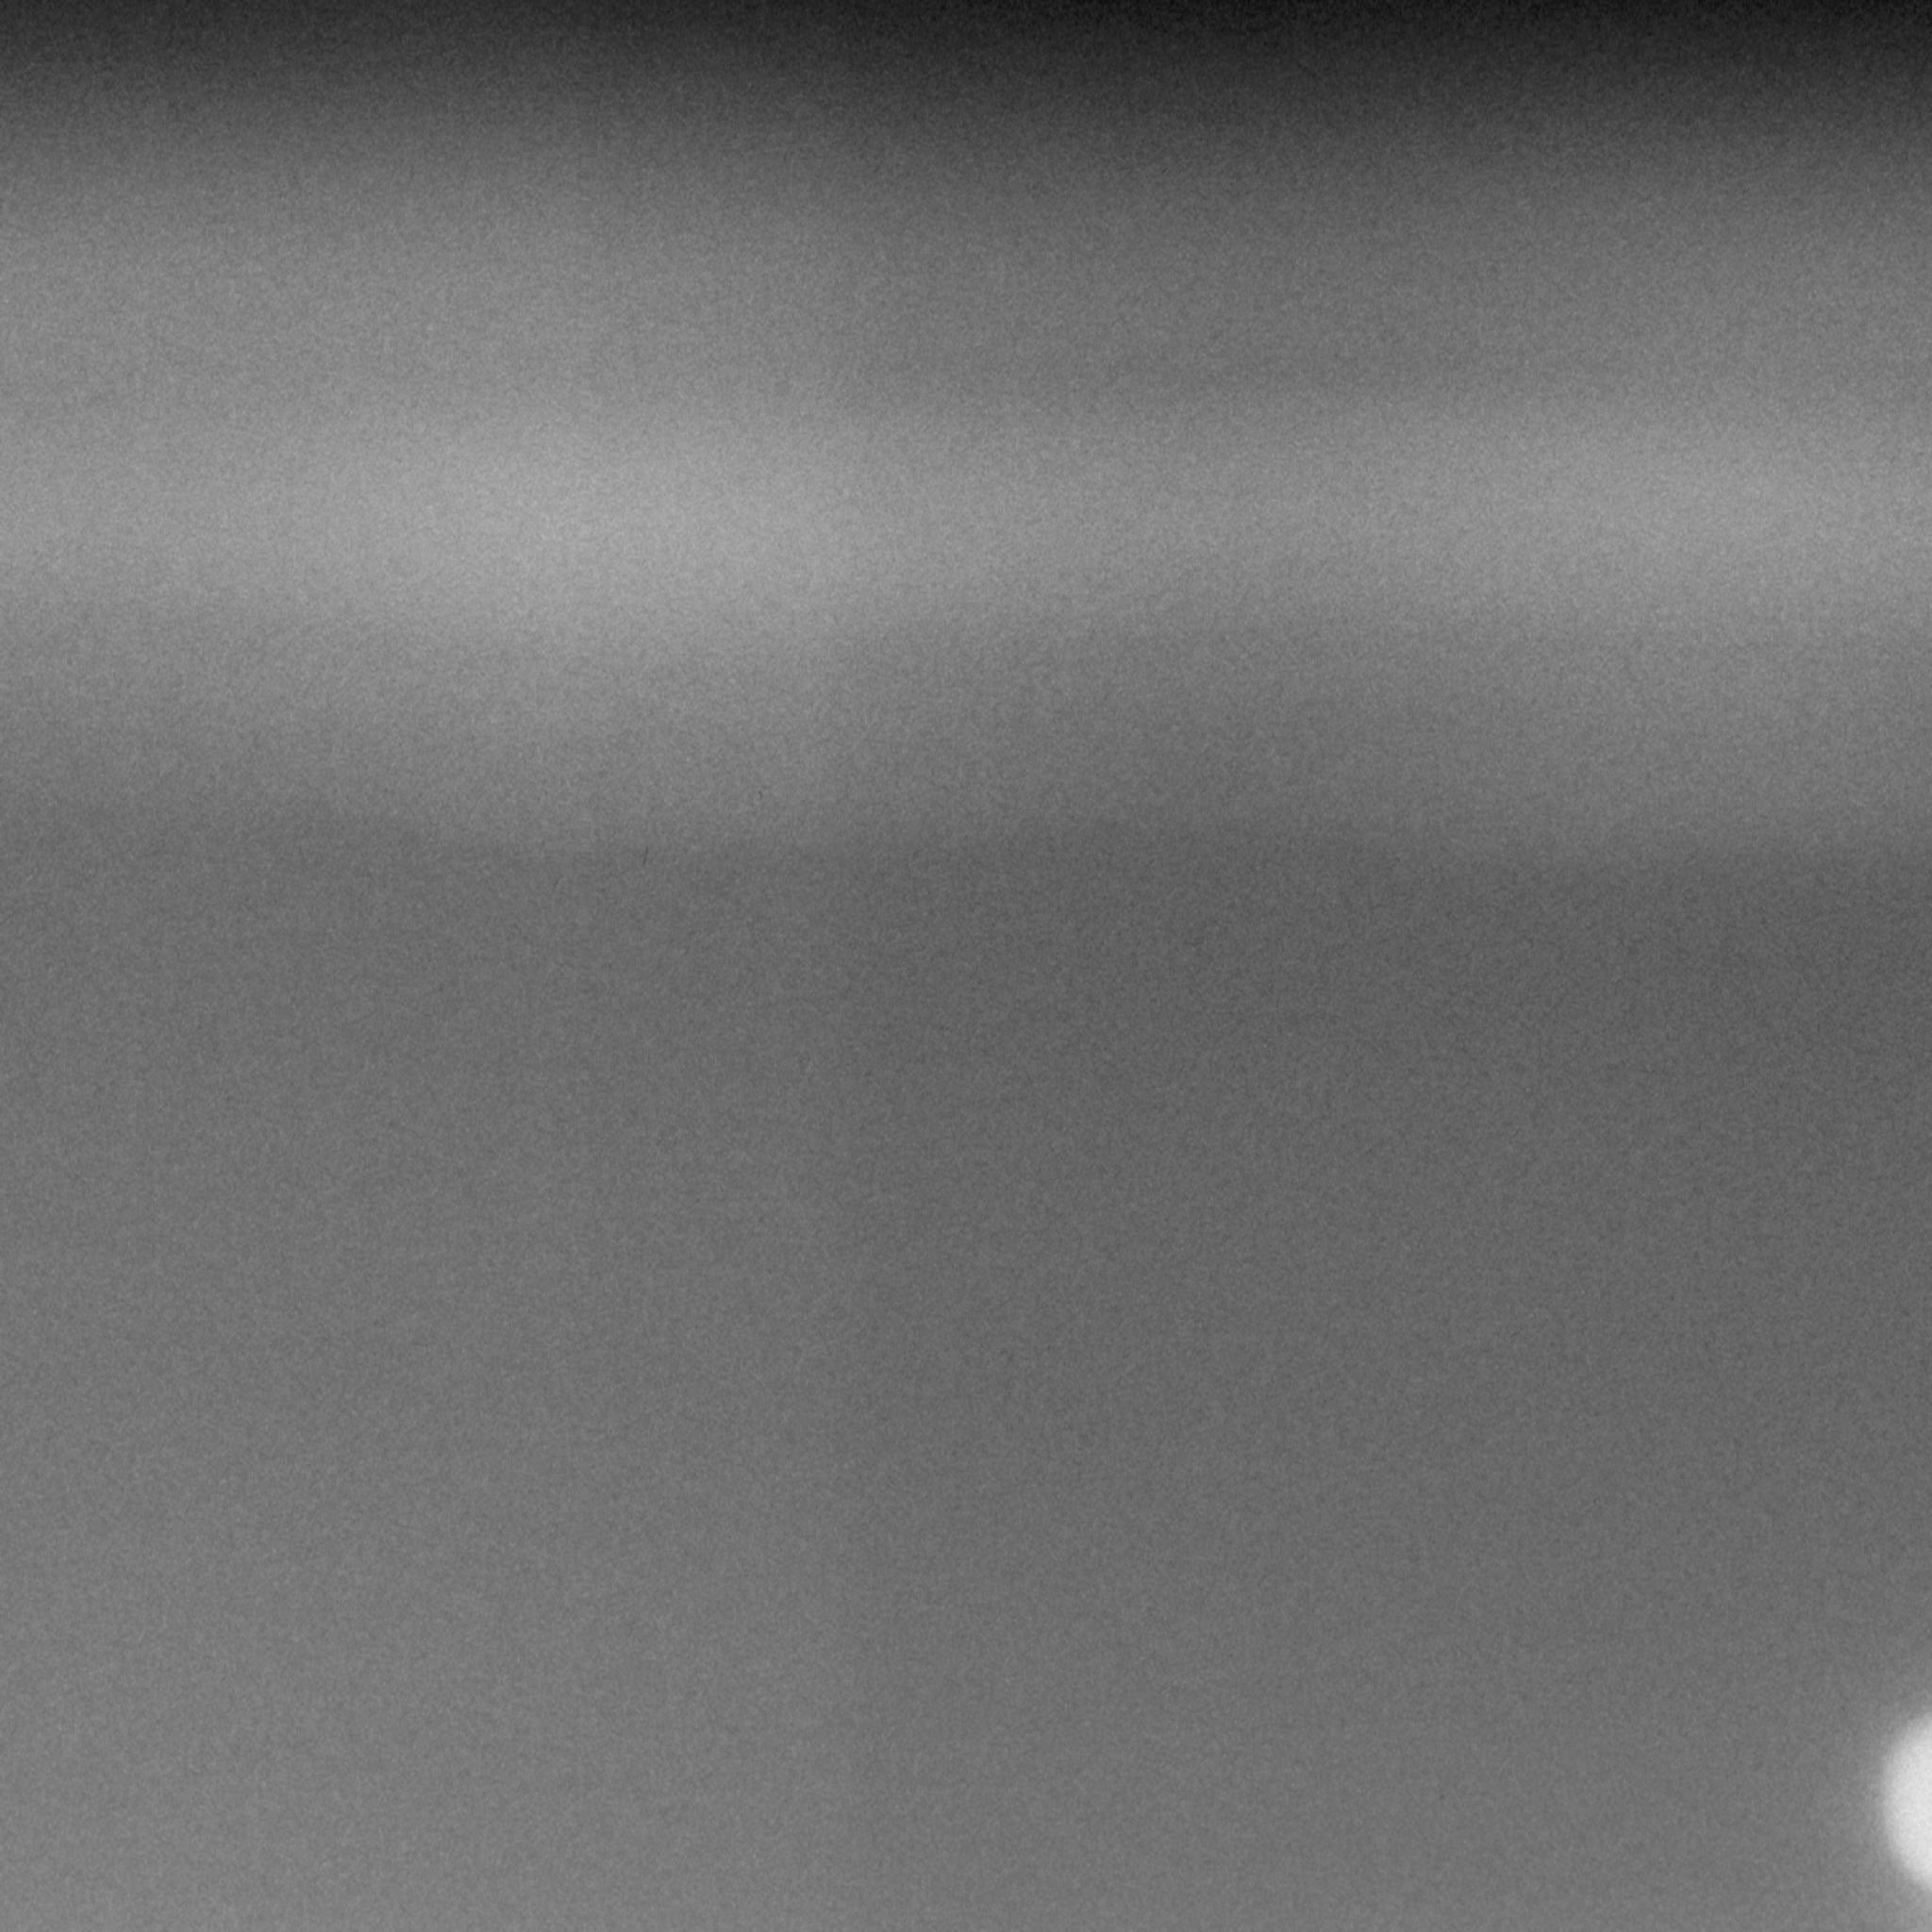PO: (635, 840, 663, 870), (750, 784, 773, 807)
